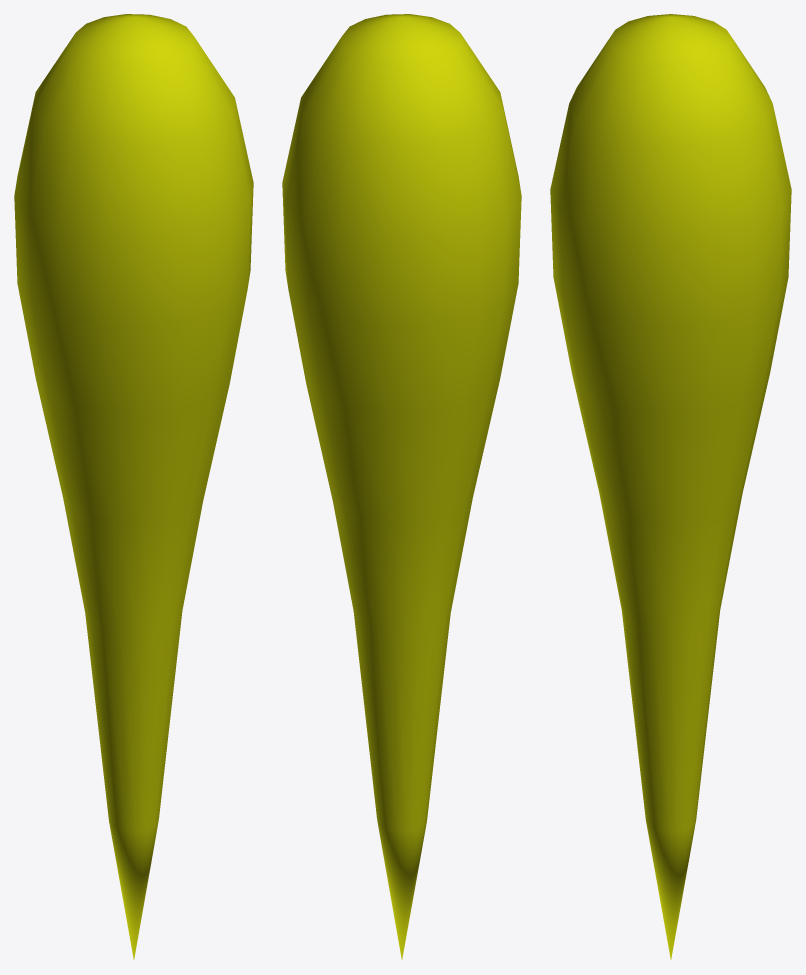
The model's file is bullet1.fbx.
The picture shows the model from 3 angles, left to right: view 1: azimuth 30°, elevation 25°; view 2: azimuth 150°, elevation 25°; view 3: azimuth 270°, elevation 25°; orthographic projection.
Parts seen in each view (by area): view 1: blast1; view 2: blast1; view 3: blast1.
Part boxes in pixels (left/top/right/bottom): blast1: left=14, top=14, right=253, bottom=959; blast1: left=282, top=14, right=521, bottom=959; blast1: left=550, top=14, right=791, bottom=959.
Bounding box in the file's own units: 0.2548 × 1.1 × 0.2548.
